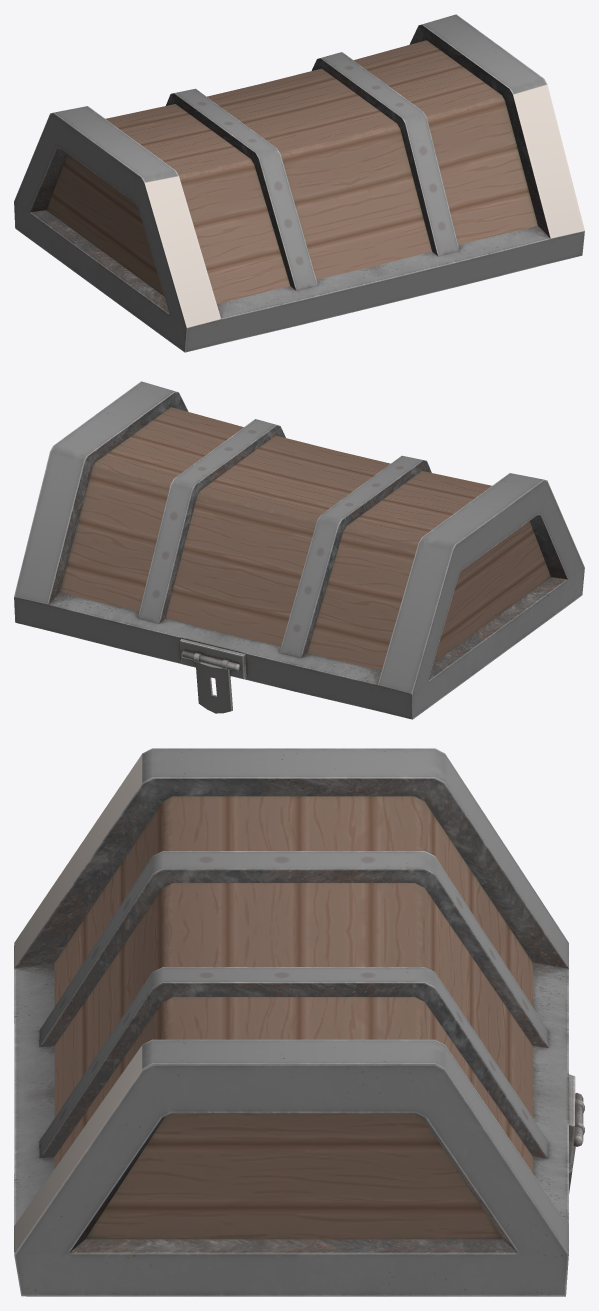
The picture shows the model from 3 angles, top to bottom: view 1: azimuth 30°, elevation 25°; view 2: azimuth 150°, elevation 25°; view 3: azimuth 270°, elevation 25°; orthographic projection. The views are drawn at different scales.
Visible parts, largest first — view 1: submesh_0; view 2: submesh_0; view 3: submesh_0.
Part boxes in pixels (x1=…): submesh_0: x1=14, y1=14, x2=584, y2=352; submesh_0: x1=14, y1=381, x2=584, y2=719; submesh_0: x1=14, y1=748, x2=584, y2=1296.
Bounding box in the file's own units: 1.07 × 0.4805 × 0.8194.
Materials: 1 (1 with a texture image).
